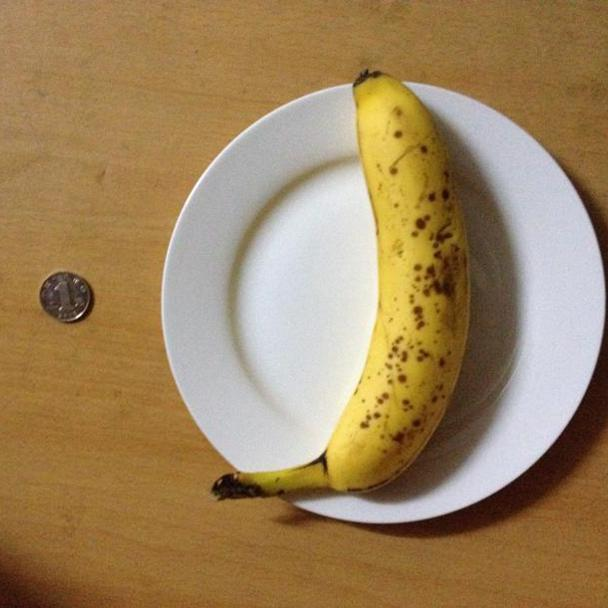banana: (318, 68, 481, 499)
